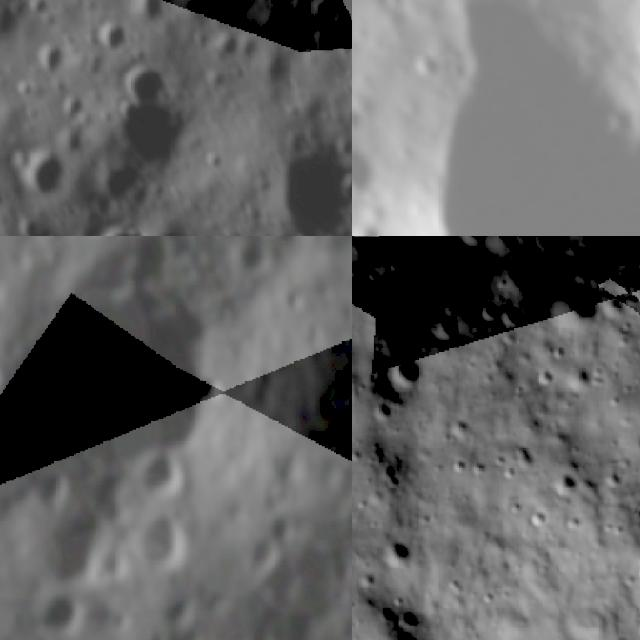crater: (29, 282, 212, 456), (31, 504, 109, 594), (533, 276, 609, 339), (352, 131, 397, 228), (125, 507, 183, 575), (27, 579, 84, 640), (111, 70, 167, 126), (138, 445, 184, 501), (230, 526, 282, 575), (233, 236, 276, 282), (276, 275, 318, 320), (26, 148, 64, 197), (424, 304, 464, 346), (380, 528, 414, 574), (391, 347, 427, 388), (437, 236, 494, 259), (509, 431, 538, 473), (366, 394, 400, 429), (441, 445, 473, 481), (526, 357, 560, 390), (471, 295, 506, 326), (526, 236, 577, 257), (565, 364, 597, 396), (352, 215, 399, 236), (100, 20, 127, 48), (525, 507, 553, 534), (398, 604, 424, 630), (356, 561, 379, 589), (501, 301, 524, 328), (562, 511, 584, 535), (503, 498, 526, 520), (129, 0, 166, 13), (352, 436, 368, 465), (498, 464, 520, 484), (487, 450, 510, 468), (470, 456, 490, 476), (388, 591, 408, 609), (635, 563, 640, 583)
